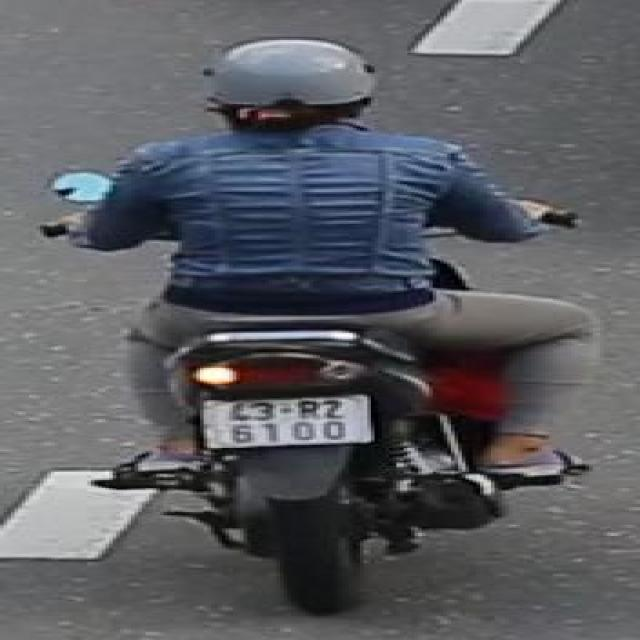LP: (202, 386, 387, 469)
helmet: (200, 30, 389, 136)
